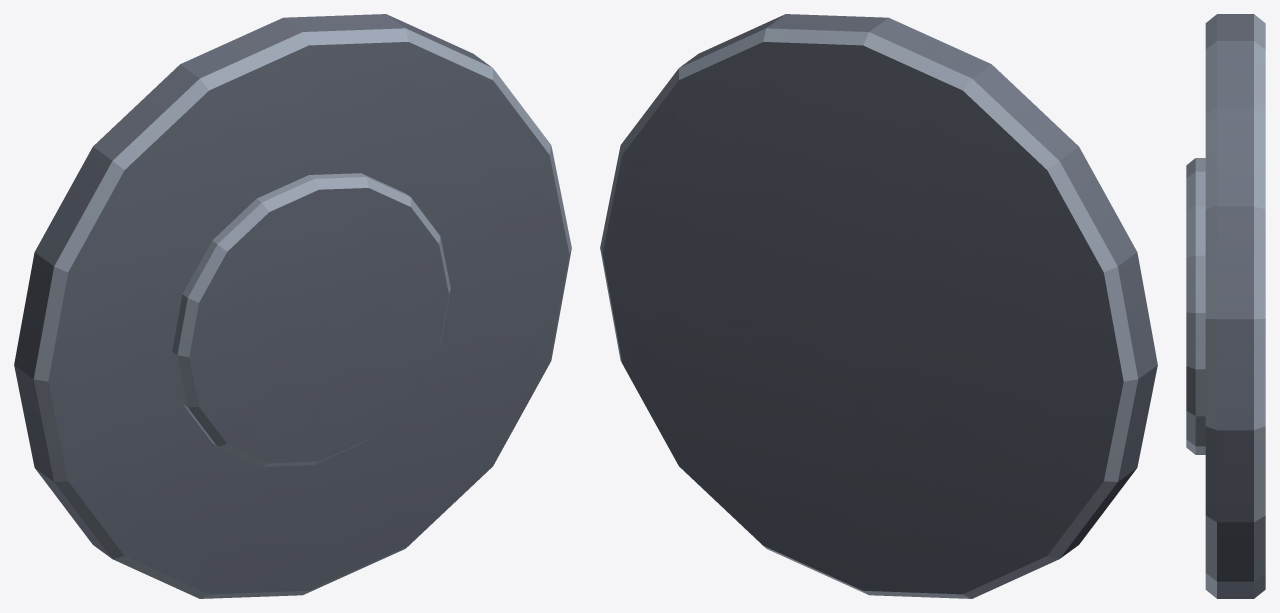
Rendered from PushableCube_PlainFace.fbx.
3 renders of one model, left to right at view 1: azimuth 30°, elevation 25°; view 2: azimuth 150°, elevation 25°; view 3: azimuth 270°, elevation 25°, orthographic. The views are drawn at different scales.
Visible parts, largest first — view 1: Cube_Side_Plain_FBX; view 2: Cube_Side_Plain_FBX; view 3: Cube_Side_Plain_FBX.
Part boxes in pixels (bbox=[...]): Cube_Side_Plain_FBX: bbox=[14, 14, 571, 598]; Cube_Side_Plain_FBX: bbox=[600, 14, 1157, 598]; Cube_Side_Plain_FBX: bbox=[1186, 14, 1265, 598].
Size of the model in its own units: 1.41 by 0.1905 by 1.41.
